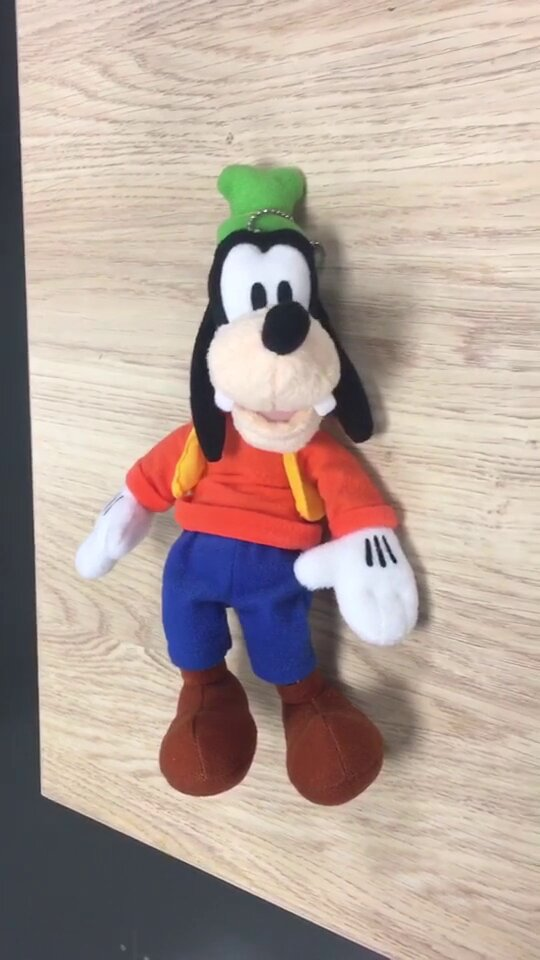goofy: (70, 161, 424, 812)
